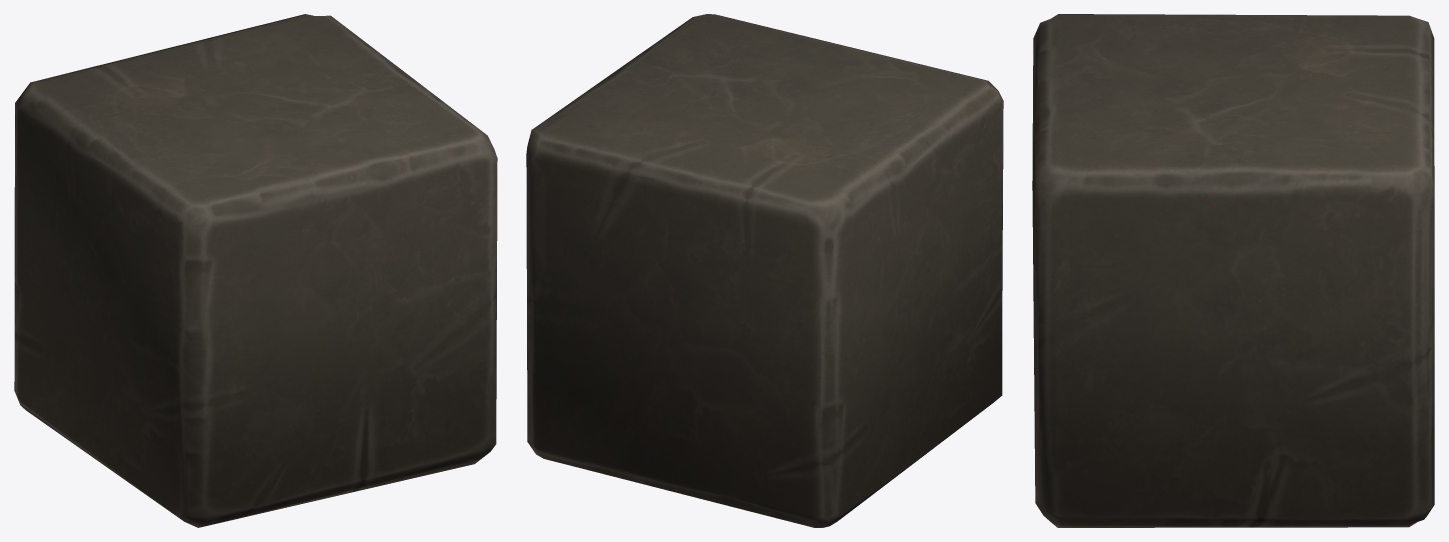
Rendered from stone_cube.glb.
3 views of the same model, side by side, from view 1: azimuth 30°, elevation 25°; view 2: azimuth 150°, elevation 25°; view 3: azimuth 270°, elevation 25° (orthographic). The views are drawn at different scales.
Parts seen in each view (by area): view 1: Cube.001; view 2: Cube.001; view 3: Cube.001.
Part boxes in pixels (x1,y1,x2,y2): Cube.001: [14, 14, 497, 527]; Cube.001: [526, 14, 1003, 527]; Cube.001: [1032, 14, 1434, 527].
Size of the model in its own units: 201 by 201 by 201.
Materials: 1 (1 with a texture image).
